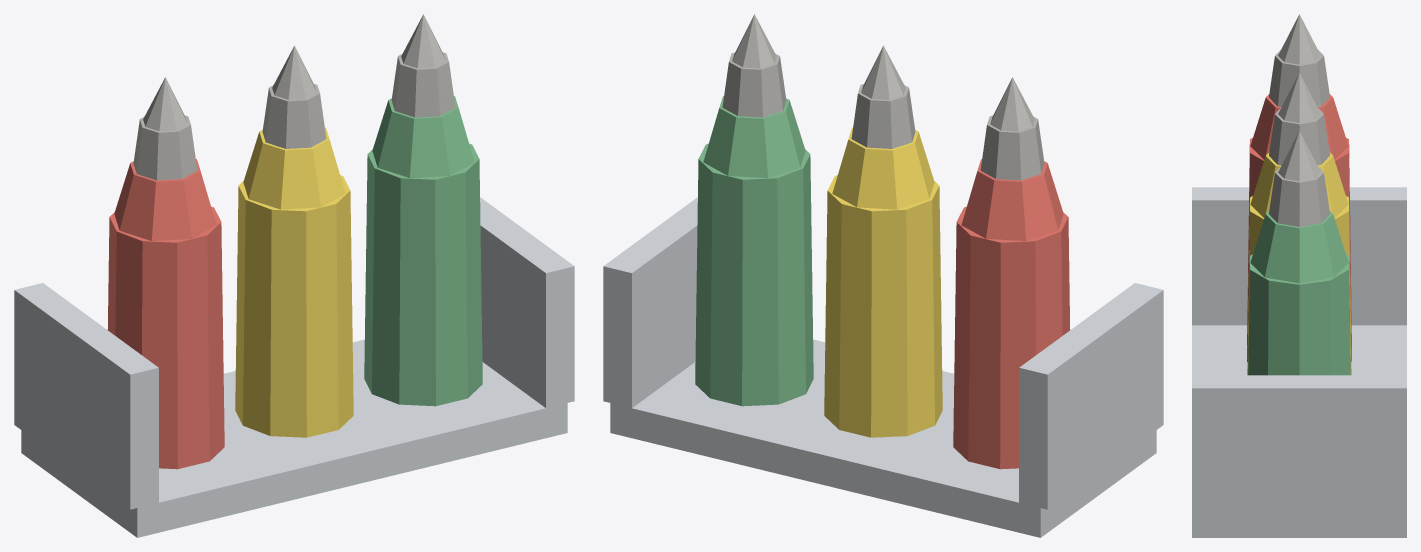
The model's file is street-food-market-and-food-trucks-sauce-bottle-set-003c70fb__34318.glb.
3 renders of one model, left to right at view 1: azimuth 30°, elevation 25°; view 2: azimuth 150°, elevation 25°; view 3: azimuth 270°, elevation 25°, orthographic. The views are drawn at different scales.
Visible parts, largest first — view 1: sauce-bottle-set-steel, sauce-bottle-set-canary, sauce-bottle-set-leaf, sauce-bottle-set-scarlet, sauce-bottle-set-concrete; view 2: sauce-bottle-set-steel, sauce-bottle-set-canary, sauce-bottle-set-leaf, sauce-bottle-set-scarlet, sauce-bottle-set-concrete; view 3: sauce-bottle-set-steel, sauce-bottle-set-leaf, sauce-bottle-set-concrete, sauce-bottle-set-scarlet, sauce-bottle-set-canary.
Part boxes in pixels (x1,y1,x2,y2): sauce-bottle-set-steel: (14,197,574,537); sauce-bottle-set-canary: (235,127,353,437); sauce-bottle-set-leaf: (364,96,482,406); sauce-bottle-set-scarlet: (107,159,224,469); sauce-bottle-set-concrete: (133,14,455,180); sauce-bottle-set-steel: (603,197,1163,537); sauce-bottle-set-canary: (824,127,942,437); sauce-bottle-set-leaf: (695,96,813,406); sauce-bottle-set-scarlet: (953,159,1070,469); sauce-bottle-set-concrete: (722,14,1044,180); sauce-bottle-set-steel: (1192,187,1406,537); sauce-bottle-set-leaf: (1248,211,1350,375); sauce-bottle-set-concrete: (1269,14,1329,226); sauce-bottle-set-scarlet: (1247,94,1351,361); sauce-bottle-set-canary: (1247,152,1351,375).
Bounding box in the file's own units: 0.31 × 0.265 × 0.14.
Materials: 5 (1 with a texture image).
